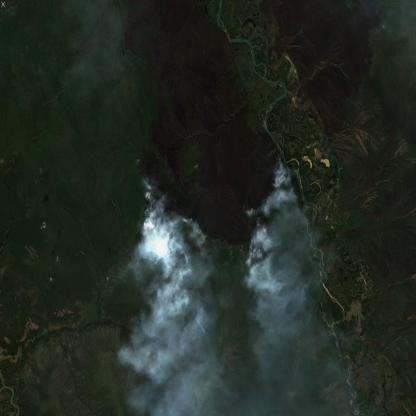fire: (136, 143, 288, 252)
